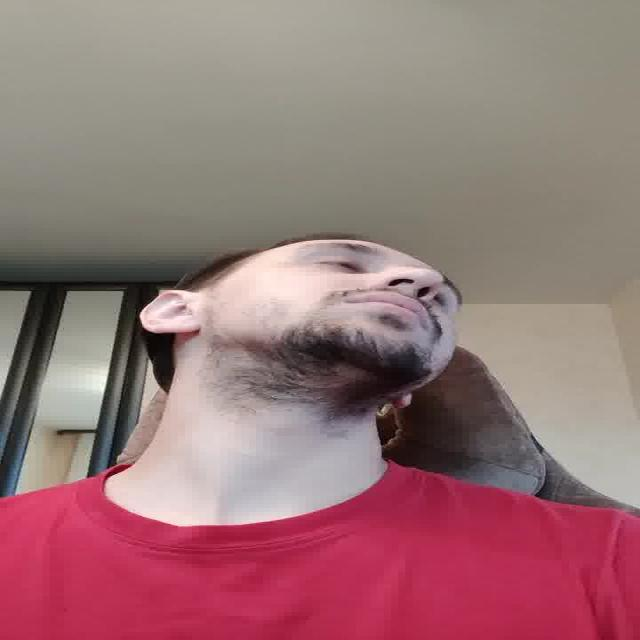earlobe: (149, 320, 204, 336), (392, 394, 417, 410)
eye: (316, 259, 370, 273), (432, 292, 452, 306)
nose: (382, 280, 429, 299)
wholeear: (142, 288, 200, 336)
